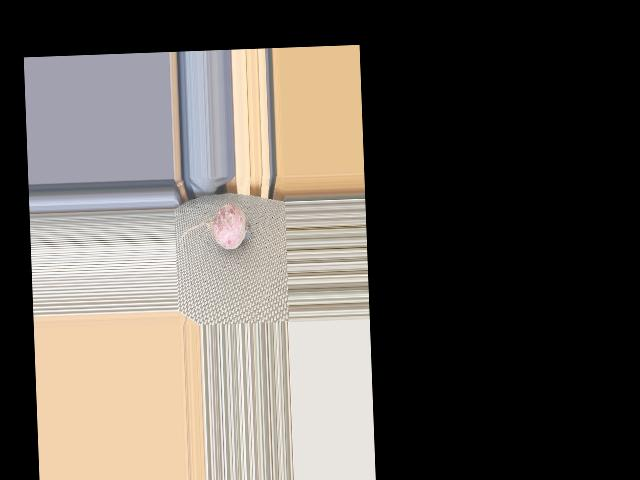beet: (179, 202, 252, 250)
